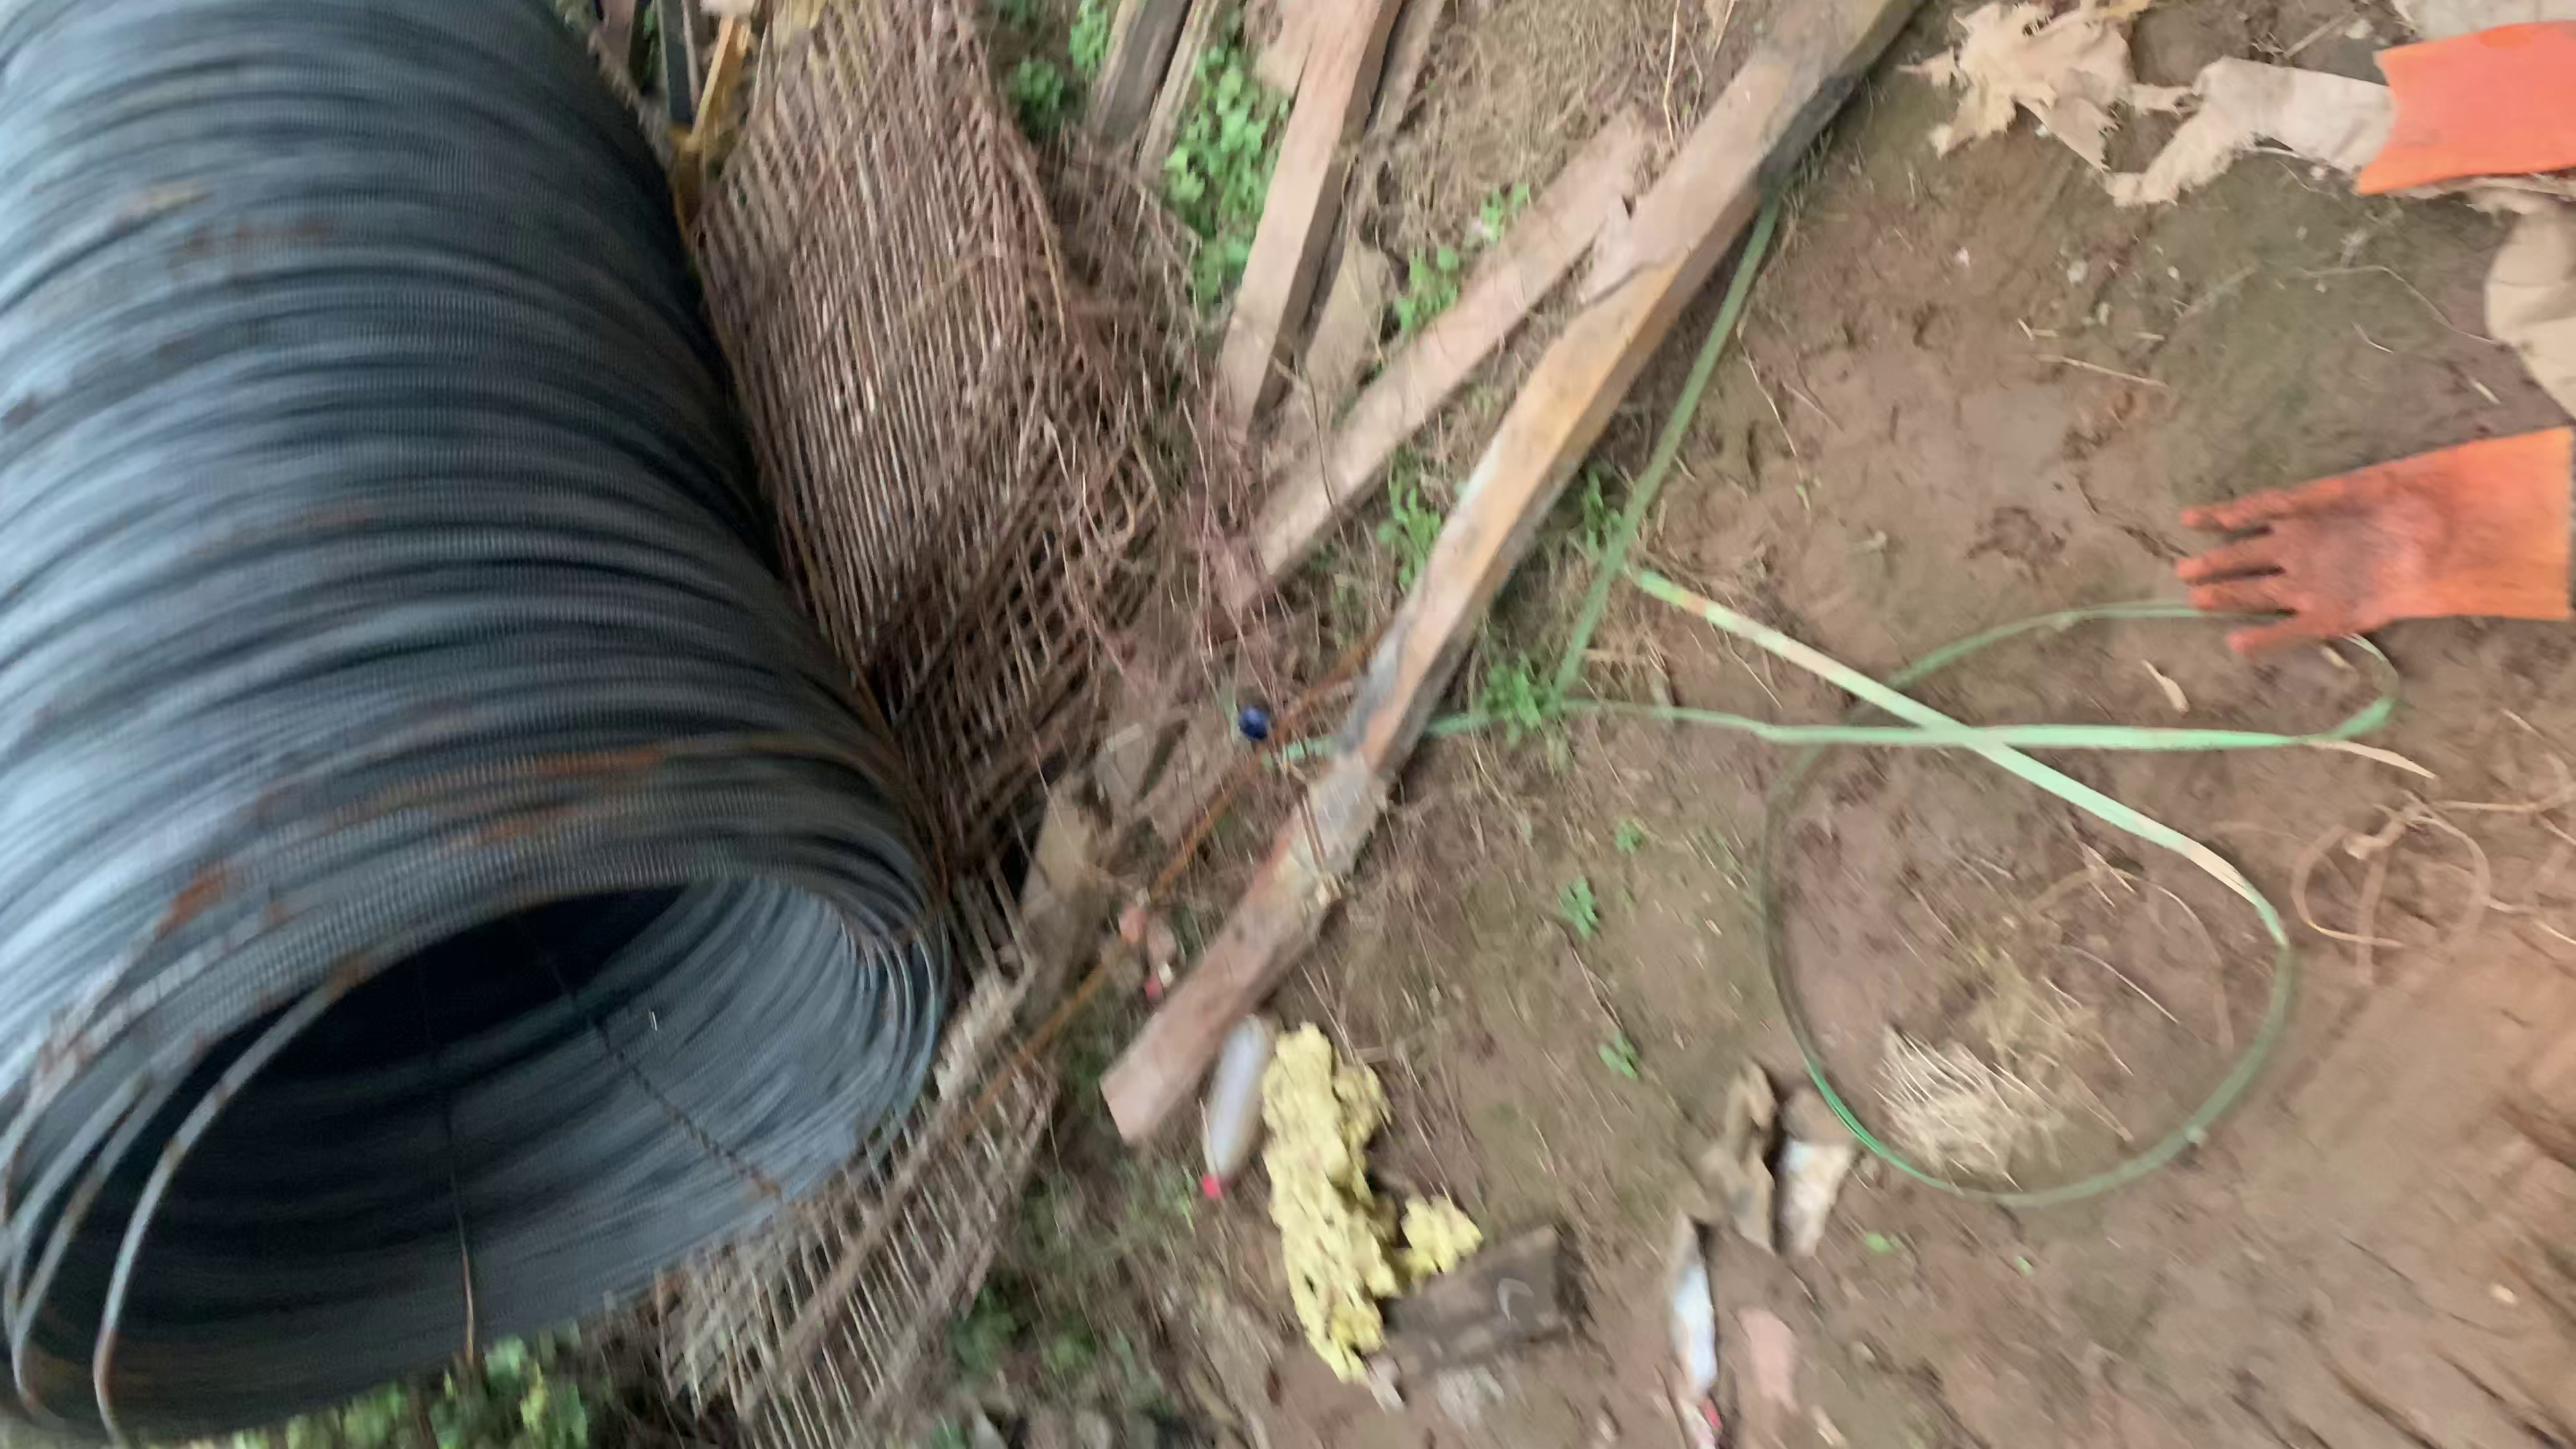coil: (21, 816, 955, 1422)
